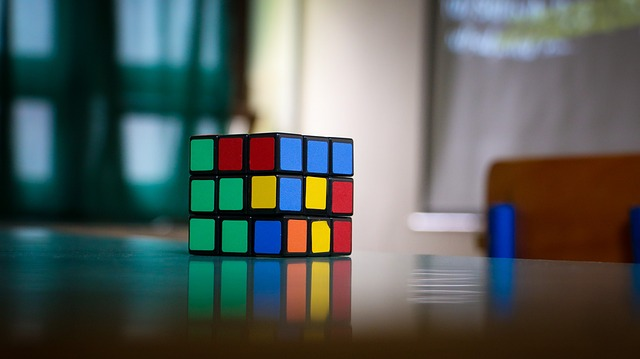cube: (187, 132, 355, 260)
